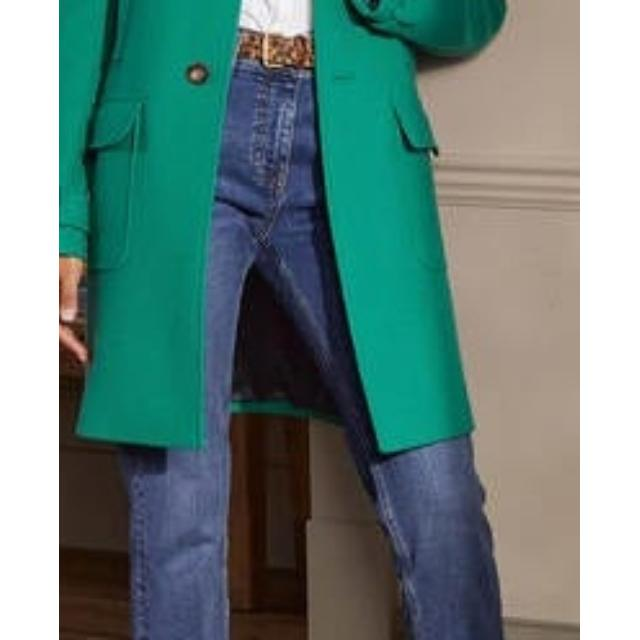wool: (60, 0, 496, 232)
